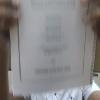notebook: (9, 0, 97, 98)
